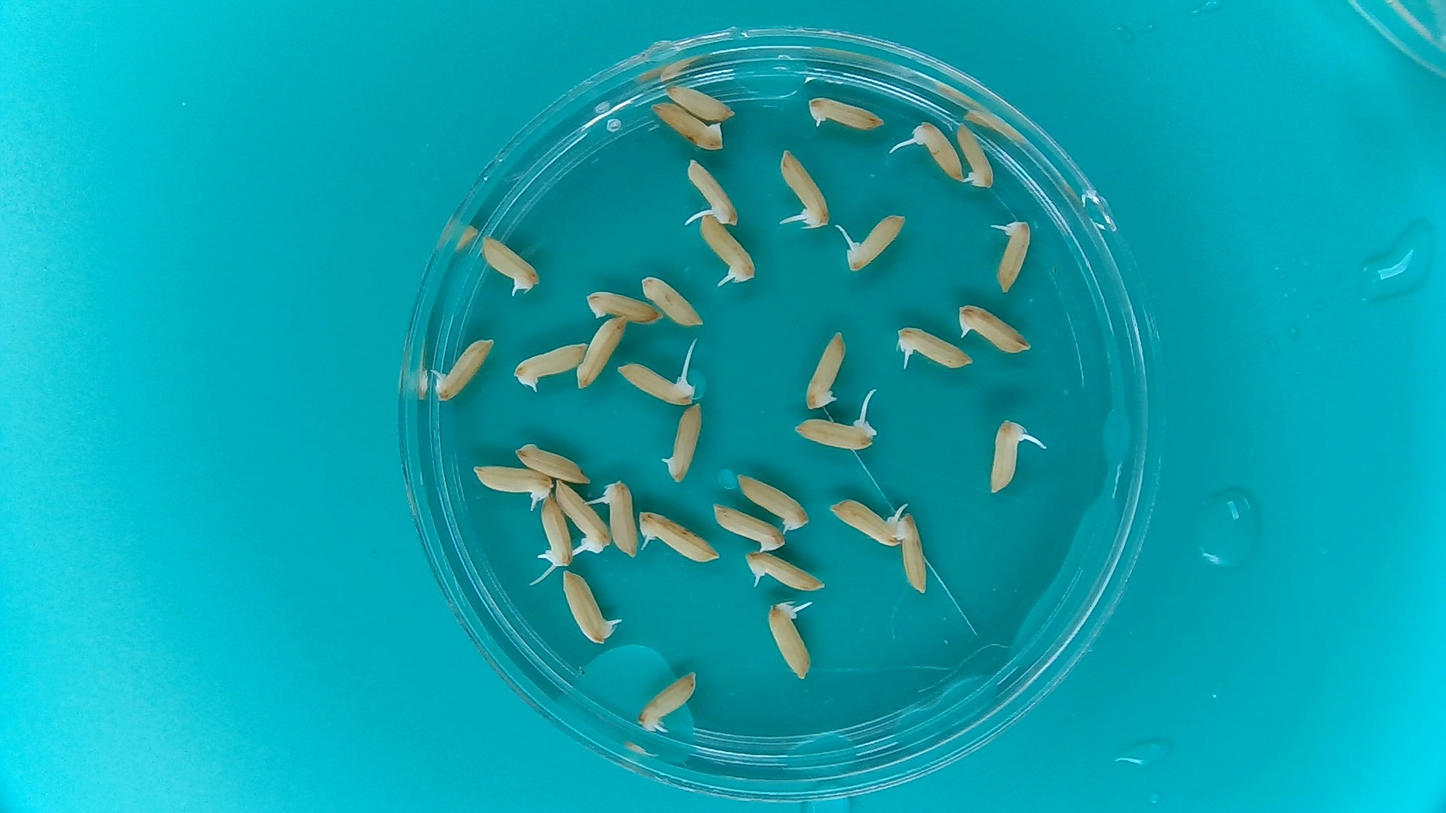no: (577, 315, 630, 391), (639, 273, 707, 328), (802, 330, 848, 411), (651, 102, 725, 151), (663, 403, 706, 483), (713, 504, 786, 551), (512, 442, 588, 485), (584, 288, 664, 327), (897, 511, 932, 598), (664, 83, 737, 124), (955, 120, 996, 190)
yes: (637, 509, 718, 565), (734, 472, 808, 531), (433, 337, 498, 400), (554, 483, 609, 556), (512, 341, 590, 392), (765, 603, 813, 685), (778, 150, 829, 227), (845, 213, 908, 273), (635, 669, 695, 729), (700, 214, 755, 279), (956, 306, 1028, 355), (619, 363, 695, 408), (563, 569, 609, 642), (688, 163, 741, 226), (828, 498, 897, 546), (987, 419, 1028, 497), (910, 122, 964, 181), (481, 233, 537, 287), (746, 552, 825, 590), (792, 416, 875, 452), (899, 326, 970, 368), (474, 464, 556, 499), (537, 494, 574, 569), (603, 483, 639, 560), (996, 219, 1033, 290), (806, 99, 883, 133)
